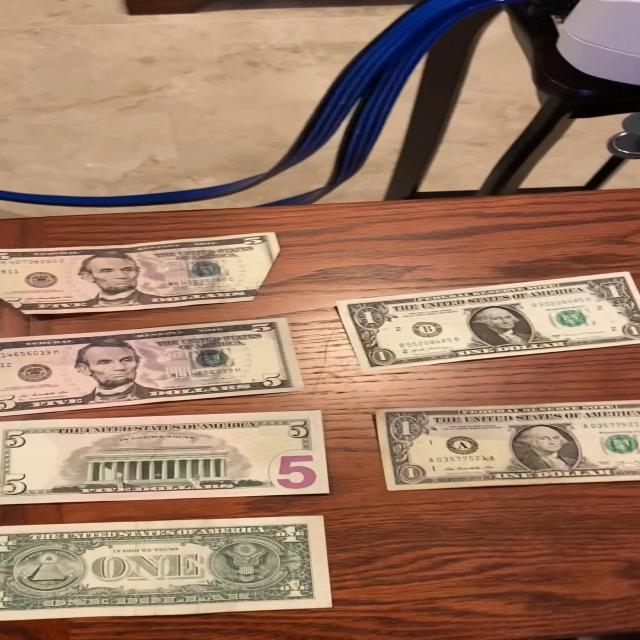1-Back: (2, 514, 338, 614)
1-Front: (330, 268, 640, 380), (368, 398, 640, 494)
5-Back: (0, 411, 336, 507)
5-Front: (0, 318, 309, 418), (0, 230, 287, 316)
